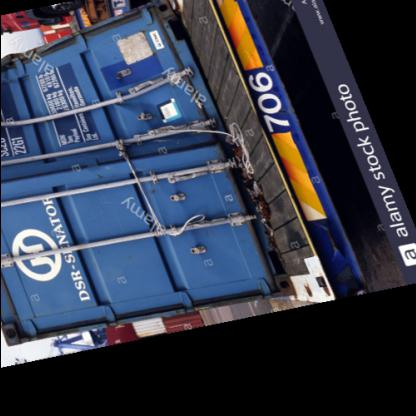Damage: (0, 7, 190, 178)
